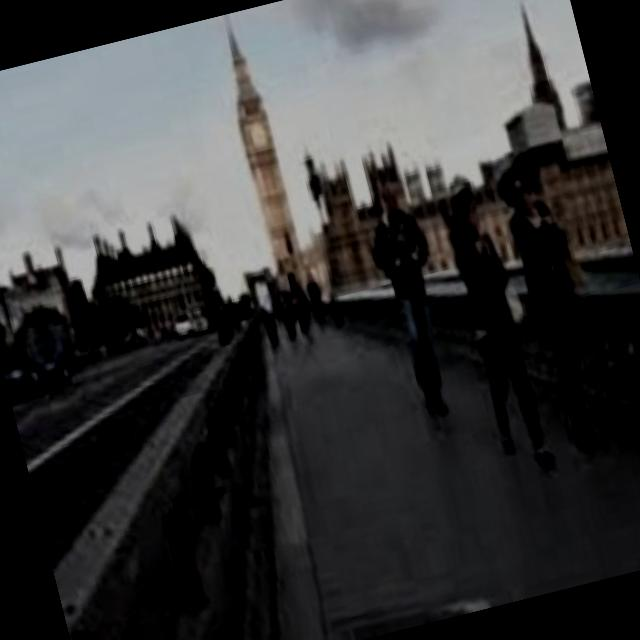Person: (424, 172, 554, 469), (490, 158, 615, 457), (359, 180, 466, 423)
